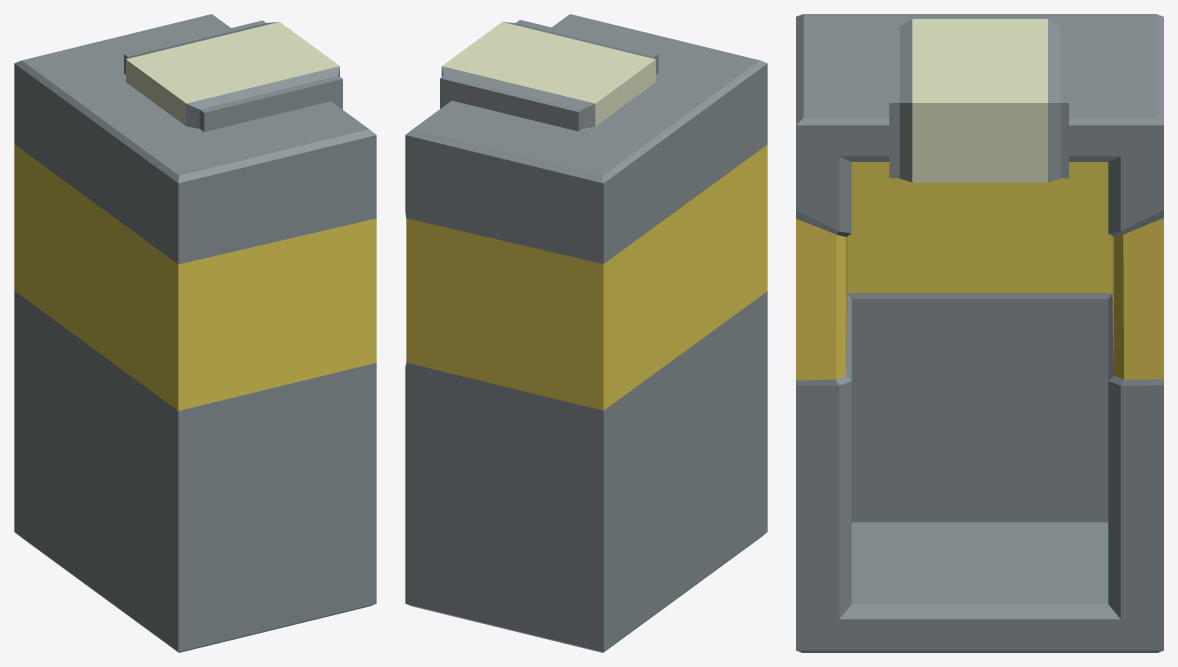
Rendered from battery_port.fbx.
The picture shows the model from 3 angles, left to right: view 1: azimuth 30°, elevation 25°; view 2: azimuth 150°, elevation 25°; view 3: azimuth 270°, elevation 25°; orthographic projection. The views are drawn at different scales.
Parts seen in each view (by area): view 1: Battery port casing, Battery port light; view 2: Battery port casing, Battery port light; view 3: Battery port casing, Battery port light.
Boxes of the visible parts, x1,y1,x2,y2 form: Battery port casing: (14,14,376,652); Battery port light: (124,20,342,131); Battery port casing: (405,14,767,652); Battery port light: (440,20,658,131); Battery port casing: (796,14,1163,652); Battery port light: (889,19,1068,182).
Size of the model in its own units: 27.37 by 61.19 by 36.42.
